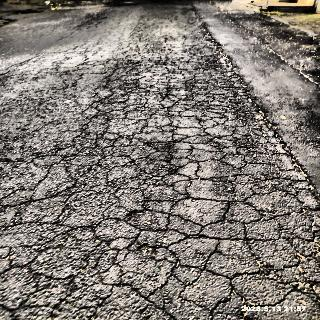alligator-crack: (155, 176, 320, 320), (0, 185, 151, 320), (151, 87, 276, 170), (80, 94, 153, 214), (108, 48, 240, 92)
